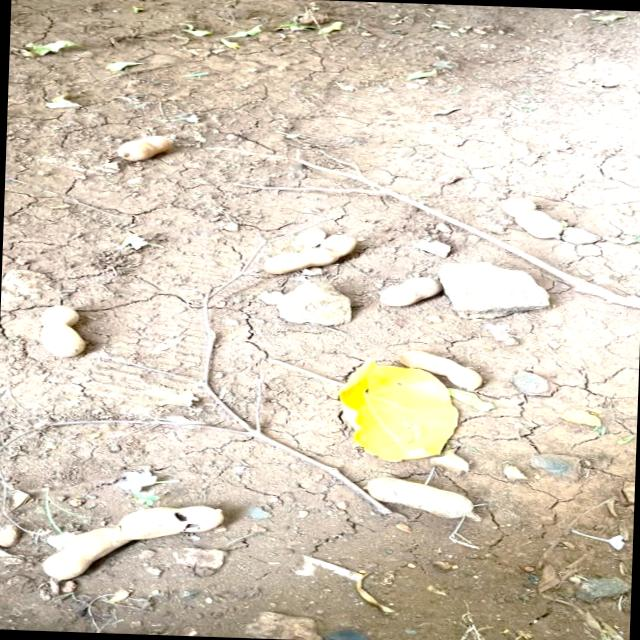tamarind: (32, 492, 228, 590), (364, 474, 496, 524), (491, 192, 605, 249), (250, 230, 365, 279), (30, 302, 94, 358), (112, 130, 182, 164), (376, 274, 440, 311)
